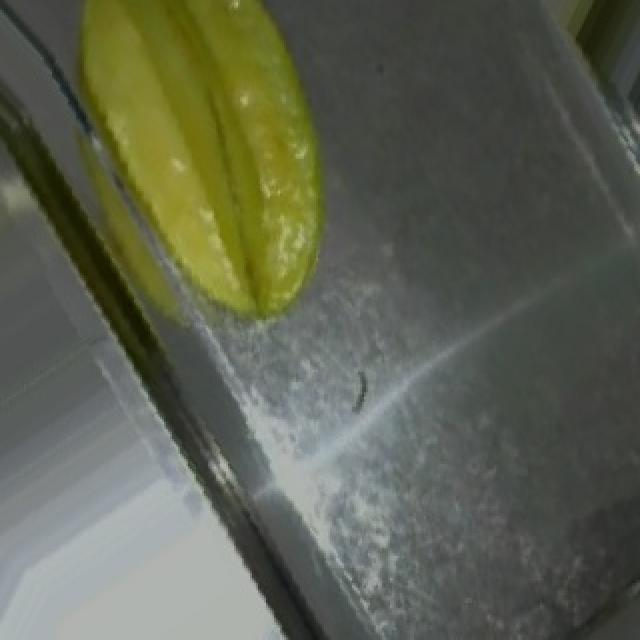fruit: (14, 0, 404, 300)
